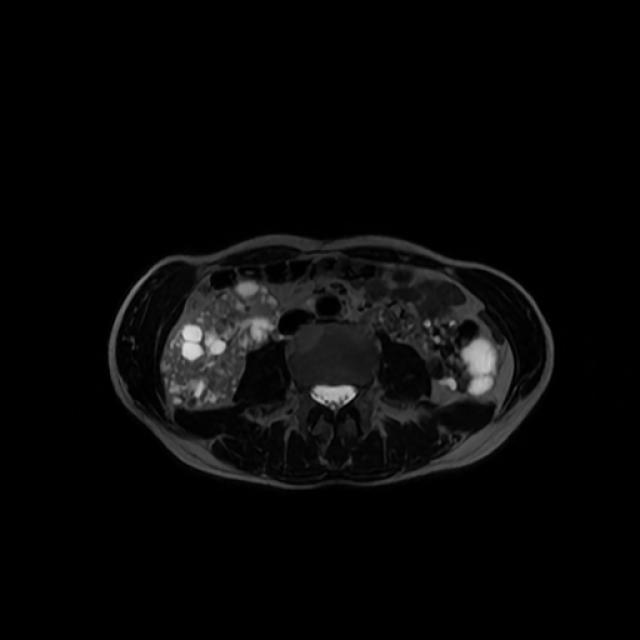sag: (157, 282, 284, 412)
sol: (417, 313, 496, 398)
